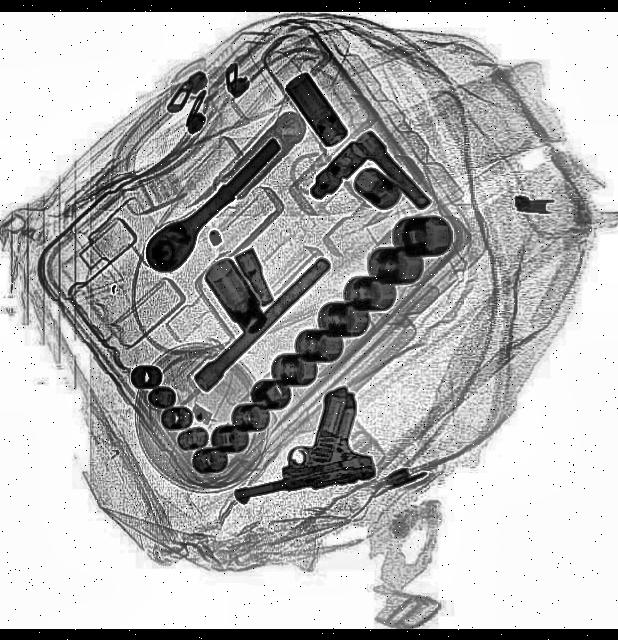Gun: (223, 381, 378, 505)
